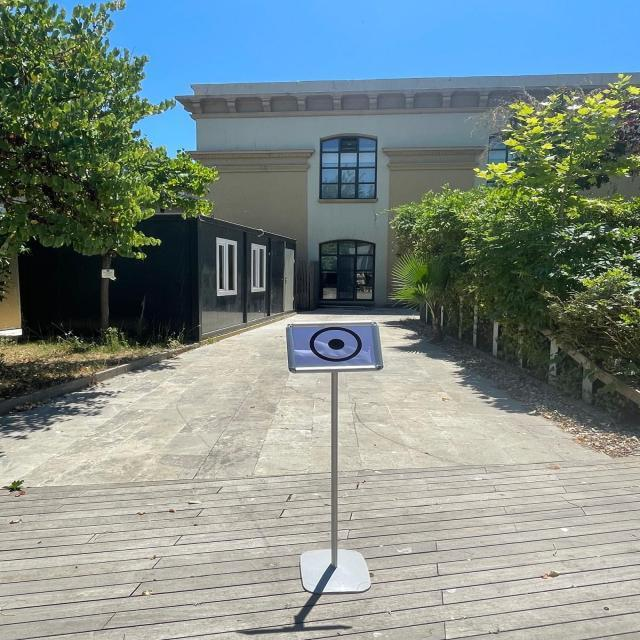Target: (279, 312, 393, 381)
inner: (323, 334, 349, 354)
